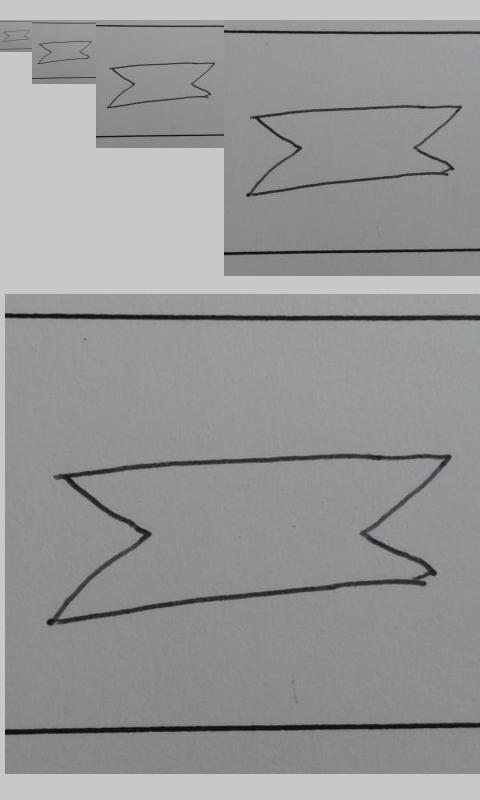edit_text: (45, 450, 452, 630), (245, 104, 463, 197), (106, 61, 215, 108), (37, 40, 92, 64), (2, 30, 31, 42)
